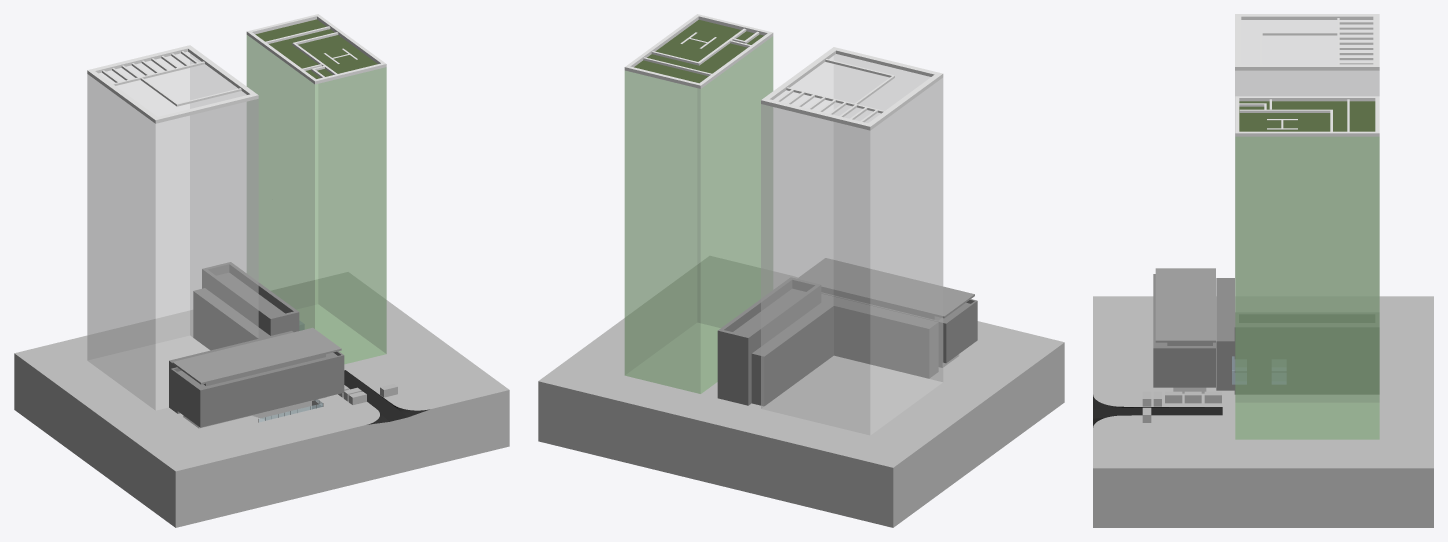
File: NaverLabs1784_001.glb
3 renders of one model, left to right at view 1: azimuth 30°, elevation 25°; view 2: azimuth 150°, elevation 25°; view 3: azimuth 270°, elevation 25°, orthographic. The views are drawn at different scales.
Parts seen in each view (by area): view 1: Base, 1784Main, GreenFacMain, 1784MainGate, 1784CafeRoof, 1784Base2, 1784Base, Cube.011; view 2: Base, 1784Main, GreenFacMain, 1784Base, 1784Base2, 1784CafeRoof, 1784MainGate, Cube.011; view 3: Base, GreenFacMain, 1784Main, 1784Base2, 1784CafeRoof, 1784MainGate, 1784Base, Cube.011, SkyBridge, Cube.007.
Part boxes in pixels (x1,y1,x2,y2): Base: (14, 272, 509, 527); 1784Main: (87, 45, 258, 410); GreenFacMain: (246, 14, 386, 363); 1784MainGate: (170, 351, 344, 428); 1784CafeRoof: (172, 327, 341, 384); 1784Base2: (202, 262, 299, 335); 1784Base: (169, 288, 293, 413); Cube.011: (102, 51, 198, 82); Base: (538, 256, 1064, 527); 1784Main: (761, 47, 943, 435); GreenFacMain: (624, 14, 773, 393); 1784Base: (751, 294, 938, 405); 1784Base2: (717, 277, 820, 405); 1784CafeRoof: (797, 258, 974, 318); 1784MainGate: (821, 292, 977, 367); Cube.011: (776, 89, 877, 122); Base: (1093, 296, 1433, 527); GreenFacMain: (1235, 96, 1379, 439); 1784Main: (1235, 14, 1379, 311); 1784Base2: (1234, 312, 1379, 394); 1784CafeRoof: (1155, 268, 1215, 342); 1784MainGate: (1153, 274, 1215, 393); 1784Base: (1216, 278, 1234, 390); Cube.011: (1339, 21, 1373, 64); SkyBridge: (1232, 356, 1286, 384); Cube.007: (1239, 109, 1332, 131).
Size of the model in its own units: 55.67 by 55.26 by 46.6.
